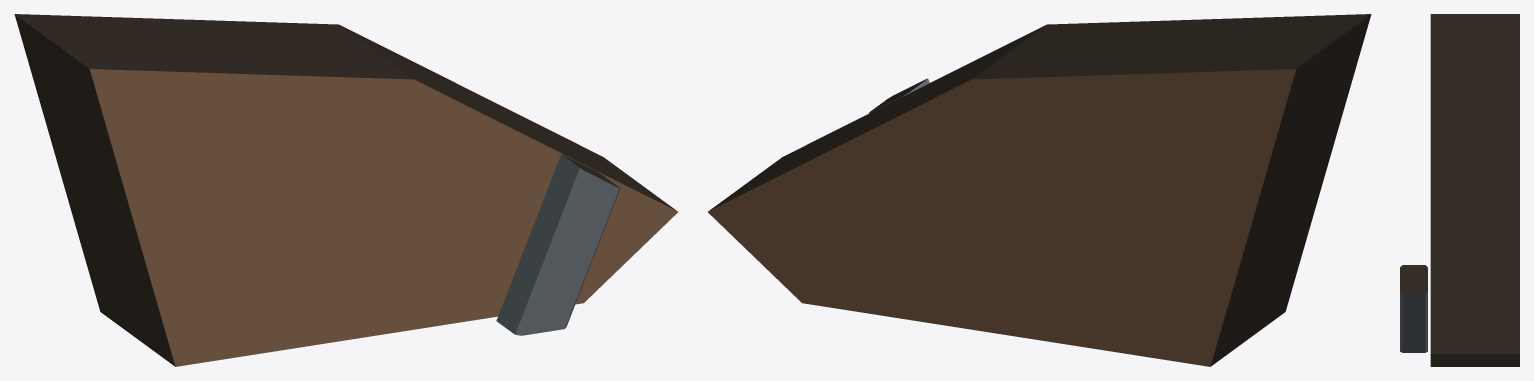
The model's file is SM_DoorShard_01_10.fbx.
3 views of the same model, side by side, from view 1: azimuth 30°, elevation 25°; view 2: azimuth 150°, elevation 25°; view 3: azimuth 270°, elevation 25° (orthographic). The views are drawn at different scales.
Visible parts, largest first — view 1: SM_DoorShard_01_10; view 2: SM_DoorShard_01_10; view 3: SM_DoorShard_01_10.
Part boxes in pixels (x1,y1,x2,y2): SM_DoorShard_01_10: [14, 14, 677, 366]; SM_DoorShard_01_10: [708, 14, 1371, 366]; SM_DoorShard_01_10: [1400, 14, 1519, 366].
Bounding box in the file's own units: 72.34 × 21.5 × 41.65.
